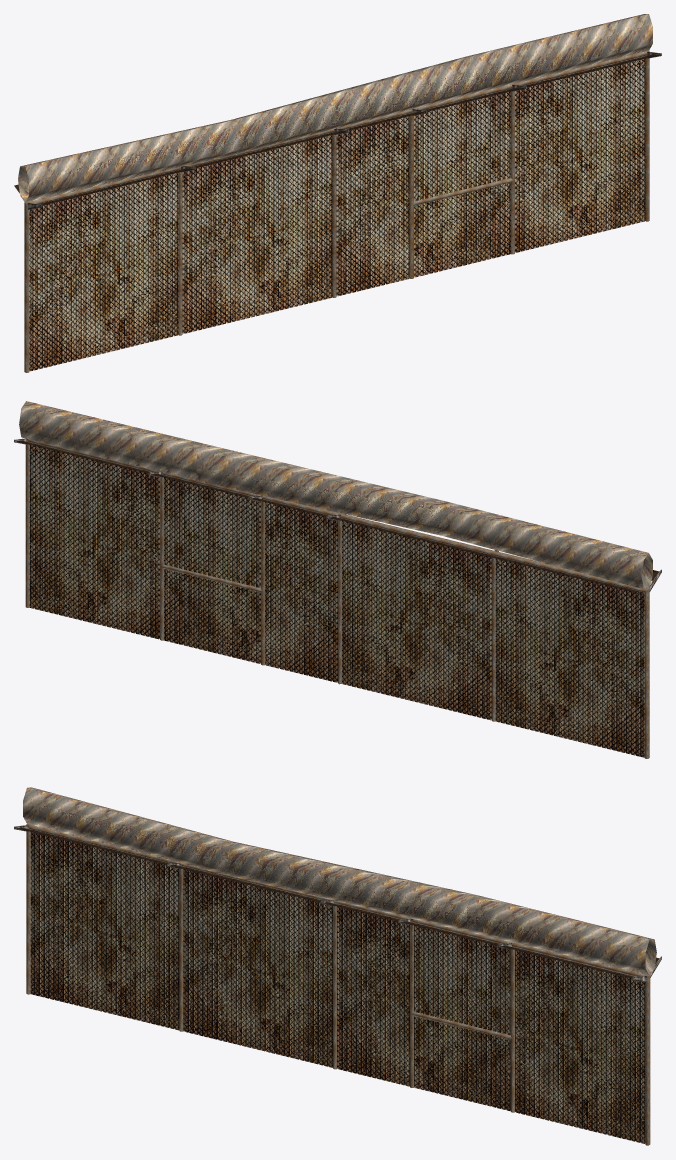
Rendered from fence10m_slum.fbx.
The picture shows the model from 3 angles, top to bottom: view 1: azimuth 30°, elevation 25°; view 2: azimuth 150°, elevation 25°; view 3: azimuth 330°, elevation 25°; orthographic projection.
Parts seen in each view (by area): view 1: mesh_1, mesh_0, mesh_2, mesh_3; view 2: mesh_1, mesh_0, mesh_2, mesh_3; view 3: mesh_1, mesh_0, mesh_2, mesh_3.
Part boxes in pixels (x1,y1,x2,y2): mesh_1: (29,56,645,371); mesh_0: (18,14,652,202); mesh_2: (24,50,649,372); mesh_3: (14,51,661,209); mesh_1: (29,445,644,757); mesh_0: (19,401,652,589); mesh_2: (25,439,649,758); mesh_3: (14,438,661,591); mesh_1: (30,829,645,1143); mesh_0: (23,787,656,975); mesh_2: (26,824,650,1145); mesh_3: (14,825,661,982).
Bounding box in the file's own units: 1000 × 316 × 80.34.
4 materials, 4 textured.
